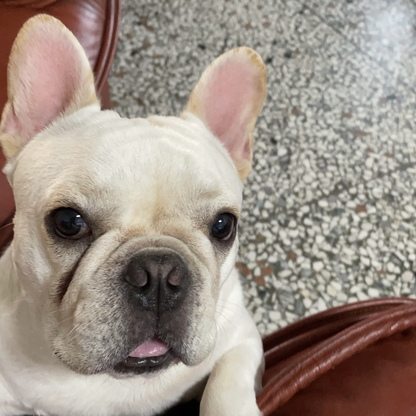bulldog: (3, 10, 274, 416)
